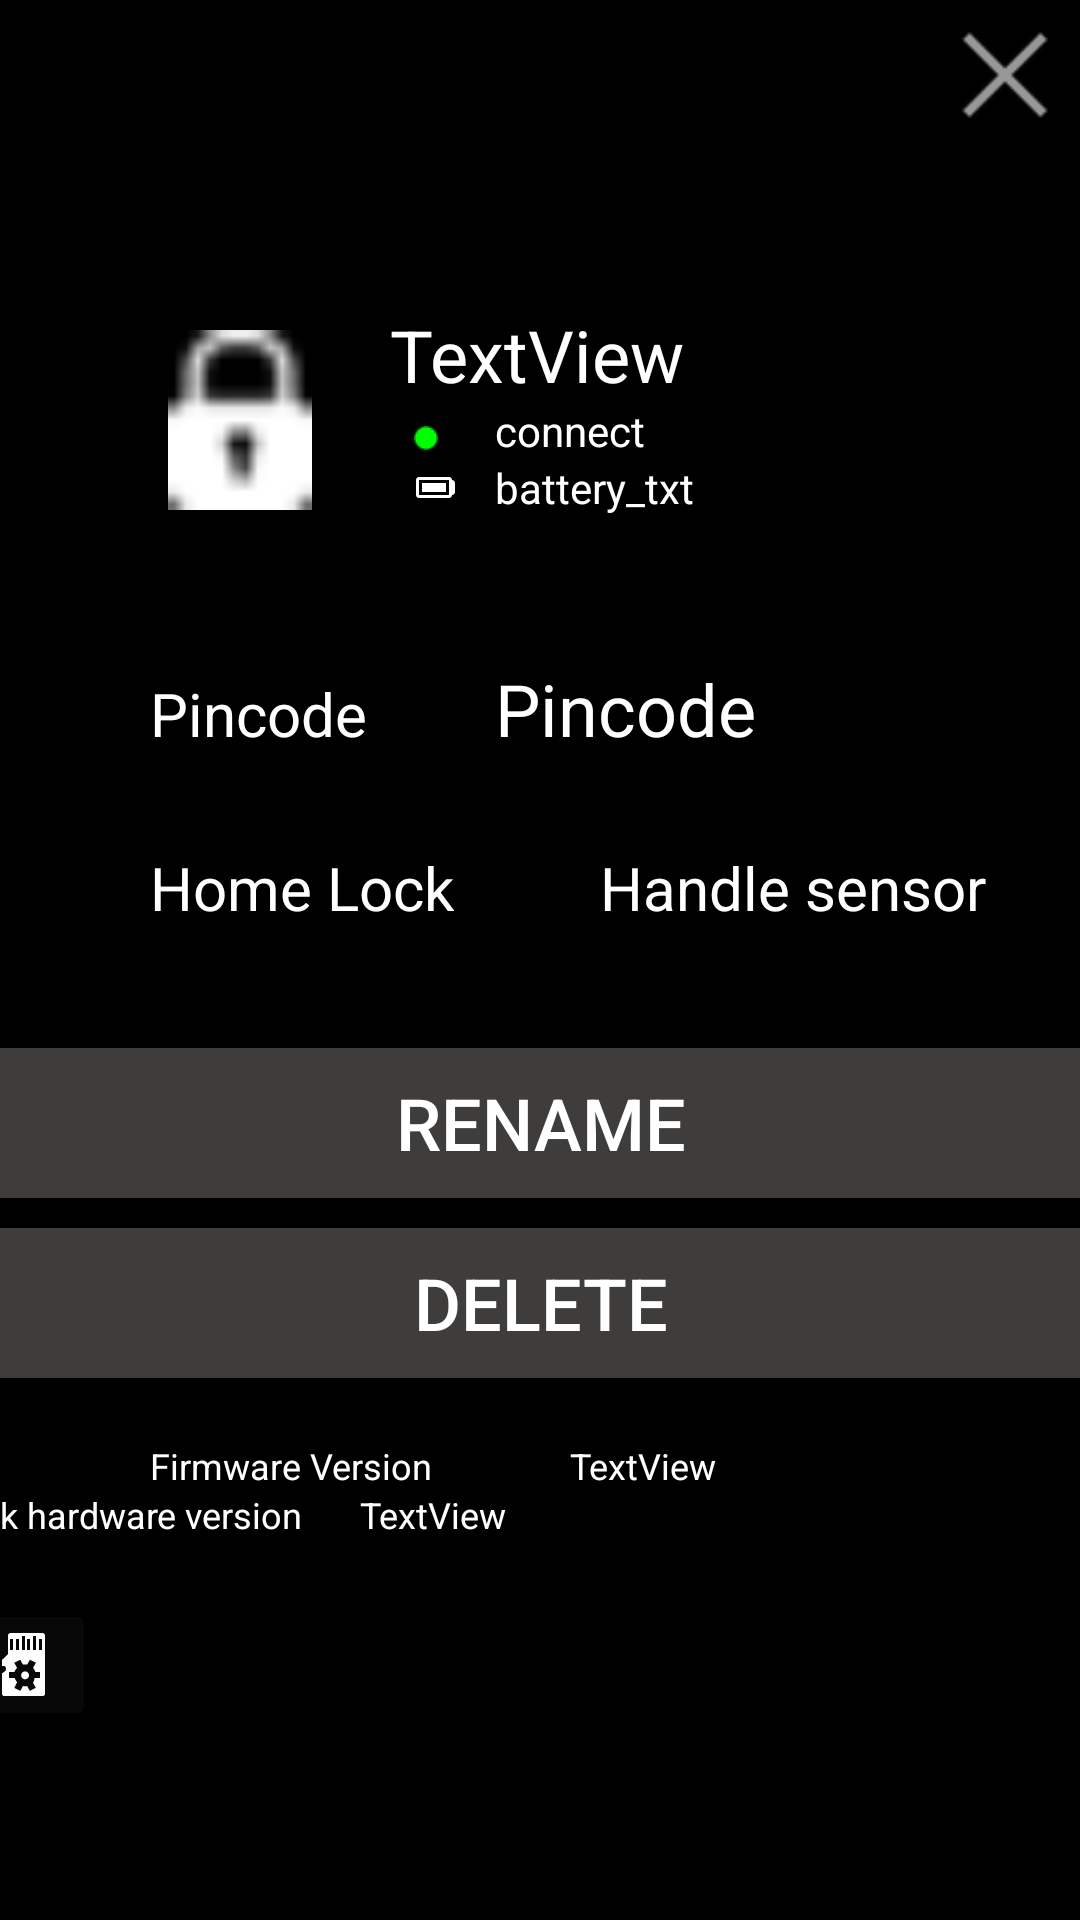

Point at icon controls on the screen. Image size 1080w x 1920h, points as point (x, y).
close clear cancel: point (1005, 75)
locked: point (240, 420)
